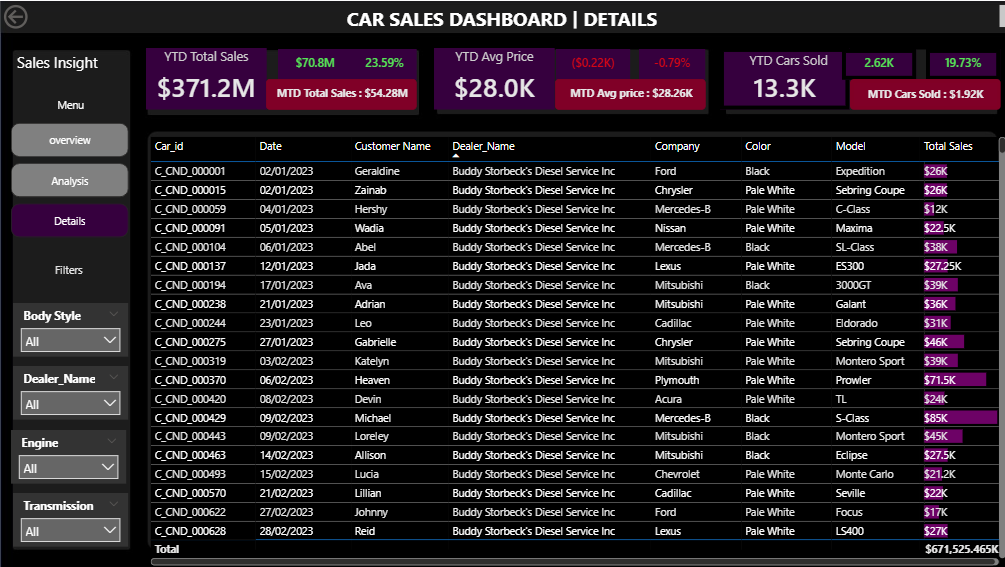

The page's visual inventory and layout, read from the dashboard file:
{"tool":"powerbi","page":{"name":"Details","canvas":[1280,720],"ordinal":2},"visuals":[{"type":"card","title":"YTD Total Sales","fields":{"Values":["car_data.YTD Total sales"]},"box":[184.9,59.8,152.9,77.8],"z":0},{"type":"card","fields":{"Values":["car_data.Sales Difference"]},"box":[352.3,60.4,93.9,38.6],"z":1000},{"type":"card","fields":{"Values":["car_data.YOY Sales Growth"]},"box":[446.8,60.5,82.3,38.6],"z":2000},{"type":"card","fields":{"Values":["car_data.MTD KPI"]},"box":[337.2,99,191.2,38.6],"z":3000},{"type":"card","title":"YTD Avg Price","fields":{"Values":["car_data.YTD Avg Price"]},"box":[550.4,59.8,152.9,77.8],"z":4000},{"type":"card","fields":{"Values":["car_data.Avg Price Diff"]},"box":[704.6,60.4,93.9,38.6],"z":5000},{"type":"card","fields":{"Values":["car_data.YOY Avg Price Growth"]},"box":[809.7,60.5,84,38.6],"z":6000},{"type":"card","fields":{"Values":["car_data.MDT Avg Price KPI"]},"box":[702.9,99,191.2,38.6],"z":7000},{"type":"card","title":"YTD Cars Sold","fields":{"Values":["car_data.YTD Cars sold"]},"box":[913.2,59.8,164,77.8],"z":8000},{"type":"card","fields":{"Values":["car_data.Cars Sold Diff"]},"box":[1066.9,60.4,93.9,38.6],"z":9000},{"type":"card","fields":{"Values":["car_data.YOY Cars Sold Growth"]},"box":[1174.3,60.4,93.9,38.6],"z":10000},{"type":"card","fields":{"Values":["car_data.MTD Cars Sold KPI"]},"box":[1077,99,191.2,38.6],"z":11000},{"type":"textbox","box":[0,0,1280.2,40.3],"z":12000},{"type":"tableEx","fields":{"Values":["car_data.Car_id","car_data.Date","car_data.Customer Name","car_data.Dealer_Name","car_data.Company","car_data.Color","car_data.Model","car_data.Total Sales"]},"box":[184.9,166.8,1095.3,553.2],"z":13000},{"type":"actionButton","box":[0,0,100,40],"z":14000},{"type":"textbox","box":[16.7,59.8,145.9,38.9],"z":15000},{"type":"slicer","fields":{"Values":["car_data.Body Style"]},"box":[16.7,382.2,145.9,68.1],"z":16000},{"type":"slicer","fields":{"Values":["car_data.Dealer_Name"]},"box":[16.7,462.9,145.9,68.1],"z":17000},{"type":"slicer","fields":{"Values":["car_data.Engine"]},"box":[13.9,543.5,145.9,68.1],"z":18000},{"type":"slicer","fields":{"Values":["car_data.Transmission"]},"box":[16.7,624.1,145.9,68.1],"z":19000},{"type":"textbox","box":[16.8,327.6,141.1,31.9],"z":20000},{"type":"textbox","box":[16.8,117.6,146.1,37],"z":21000},{"type":"pageNavigator","box":[13.4,154.5,149.5,147.8],"z":22000}]}

Visuals, with their boxes on the page's 1280x720 design canvas (x1, y1, x2, y2). These are canvas units, not pixel positions in the 1005x567 screenshot, which may show the page scaled, cropped or inside an application window:
"YTD Total Sales" card: l=185, t=60, r=338, b=138
card - car_data.Sales Difference: l=352, t=60, r=446, b=99
card - car_data.YOY Sales Growth: l=447, t=60, r=529, b=99
card - car_data.MTD KPI: l=337, t=99, r=528, b=138
"YTD Avg Price" card: l=550, t=60, r=703, b=138
card - car_data.Avg Price Diff: l=705, t=60, r=798, b=99
card - car_data.YOY Avg Price Growth: l=810, t=60, r=894, b=99
card - car_data.MDT Avg Price KPI: l=703, t=99, r=894, b=138
"YTD Cars Sold" card: l=913, t=60, r=1077, b=138
card - car_data.Cars Sold Diff: l=1067, t=60, r=1161, b=99
card - car_data.YOY Cars Sold Growth: l=1174, t=60, r=1268, b=99
card - car_data.MTD Cars Sold KPI: l=1077, t=99, r=1268, b=138
textbox: l=0, t=0, r=1280, b=40
tableEx - car_data.Car_id x car_data.Date: l=185, t=167, r=1280, b=720
actionButton: l=0, t=0, r=100, b=40
textbox: l=17, t=60, r=163, b=99
slicer - car_data.Body Style: l=17, t=382, r=163, b=450
slicer - car_data.Dealer_Name: l=17, t=463, r=163, b=531
slicer - car_data.Engine: l=14, t=544, r=160, b=612
slicer - car_data.Transmission: l=17, t=624, r=163, b=692
textbox: l=17, t=328, r=158, b=360
textbox: l=17, t=118, r=163, b=155
pageNavigator: l=13, t=154, r=163, b=302
